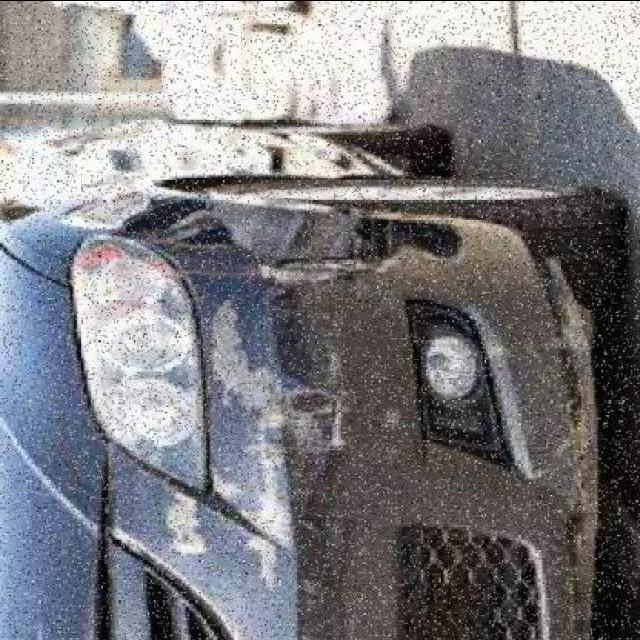front-bumper-dent: (203, 237, 584, 640)
